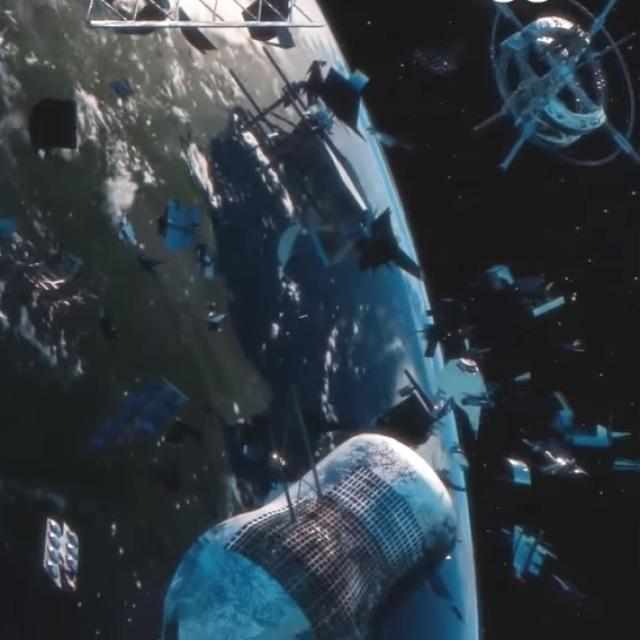large_debris: (151, 398, 477, 640), (188, 48, 434, 291), (461, 0, 640, 193), (495, 382, 640, 497), (475, 240, 616, 330), (72, 3, 339, 35), (496, 509, 570, 594), (16, 89, 96, 167), (33, 505, 96, 596)
